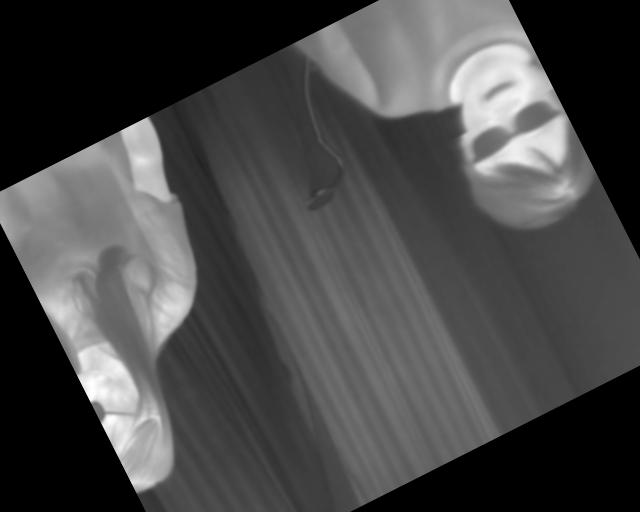face: (423, 41, 606, 249)
